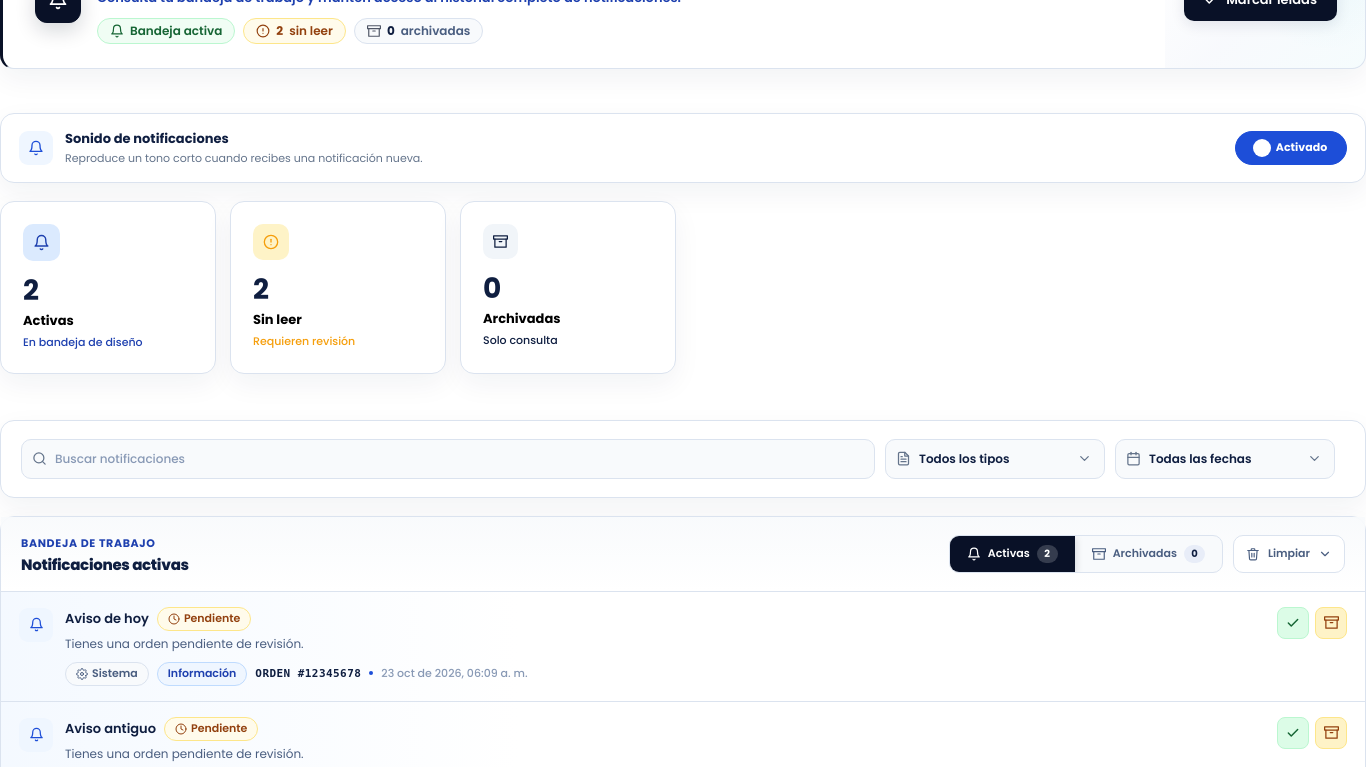
DesignerNotificationsModule › filters notifications by preset and custom date ranges
(page scrolled)
Select "Hoy" in the dropdown named "Filtrar por fecha" at (1236,459), box x1=1149 y1=453 x2=1324 y2=465
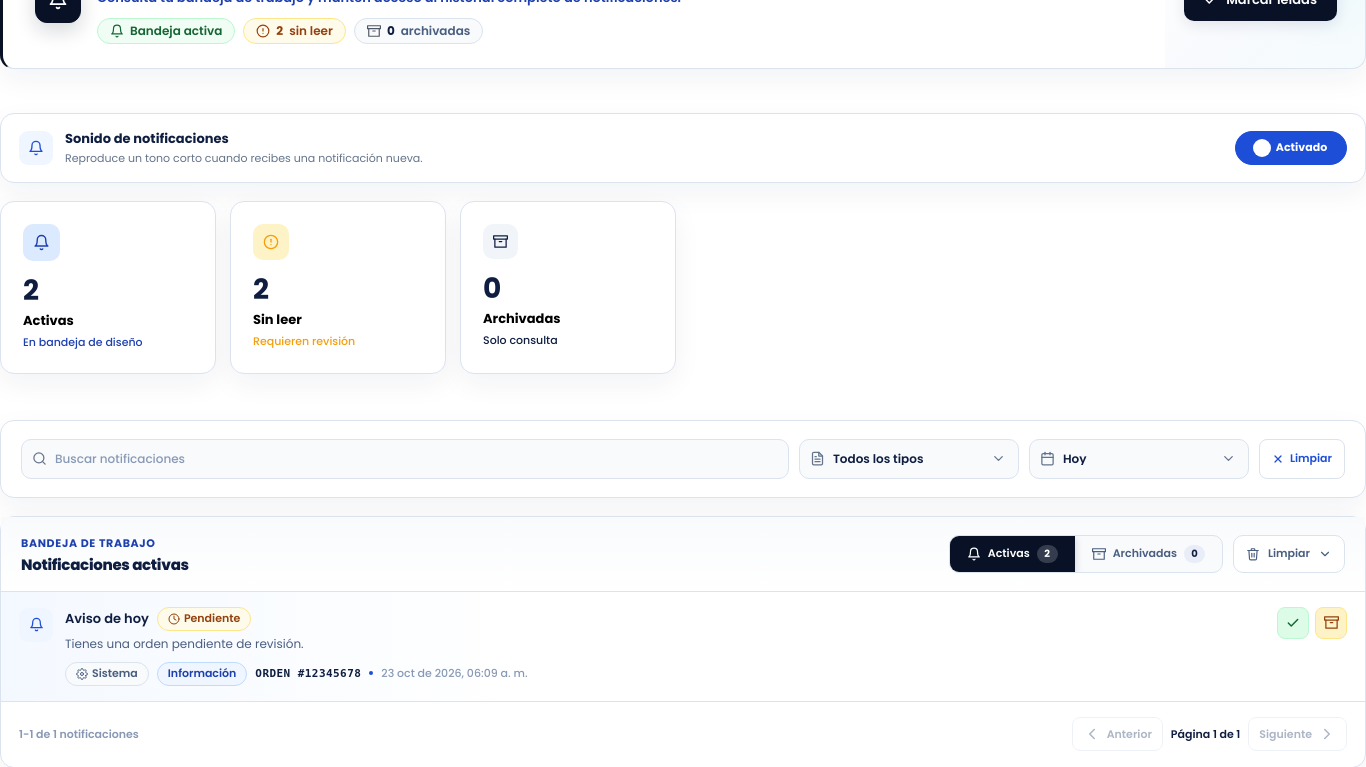
Expected: the text "Aviso de hoy" is shown, x1=65 y1=610 x2=149 y2=628
Expected: the text "Aviso antiguo" is gone
Select "Personalizado" in the dropdown named "Filtrar por fecha" at (1150,459), box x1=1063 y1=453 x2=1238 y2=465
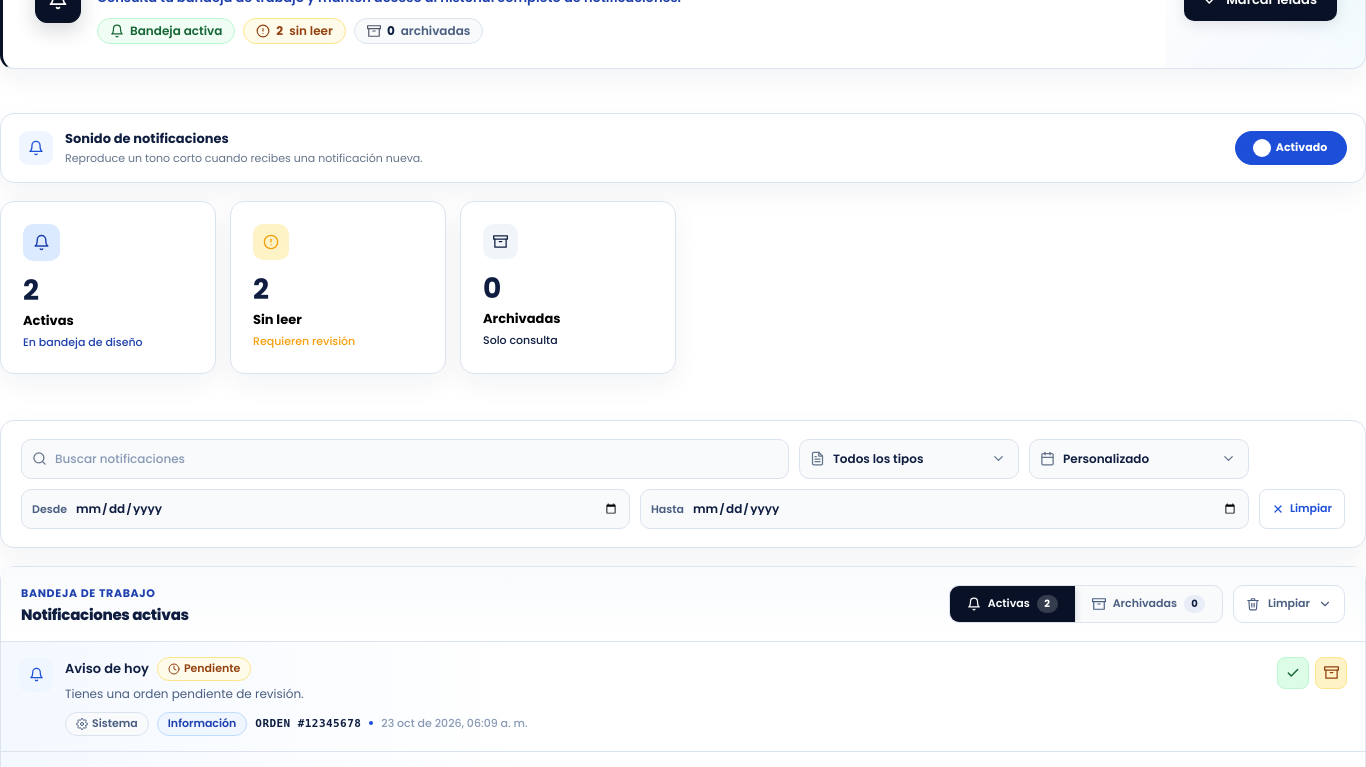
Type "2020-01-01" into the date field named "Fecha desde" at (347,509), box x1=75 y1=501 x2=619 y2=517
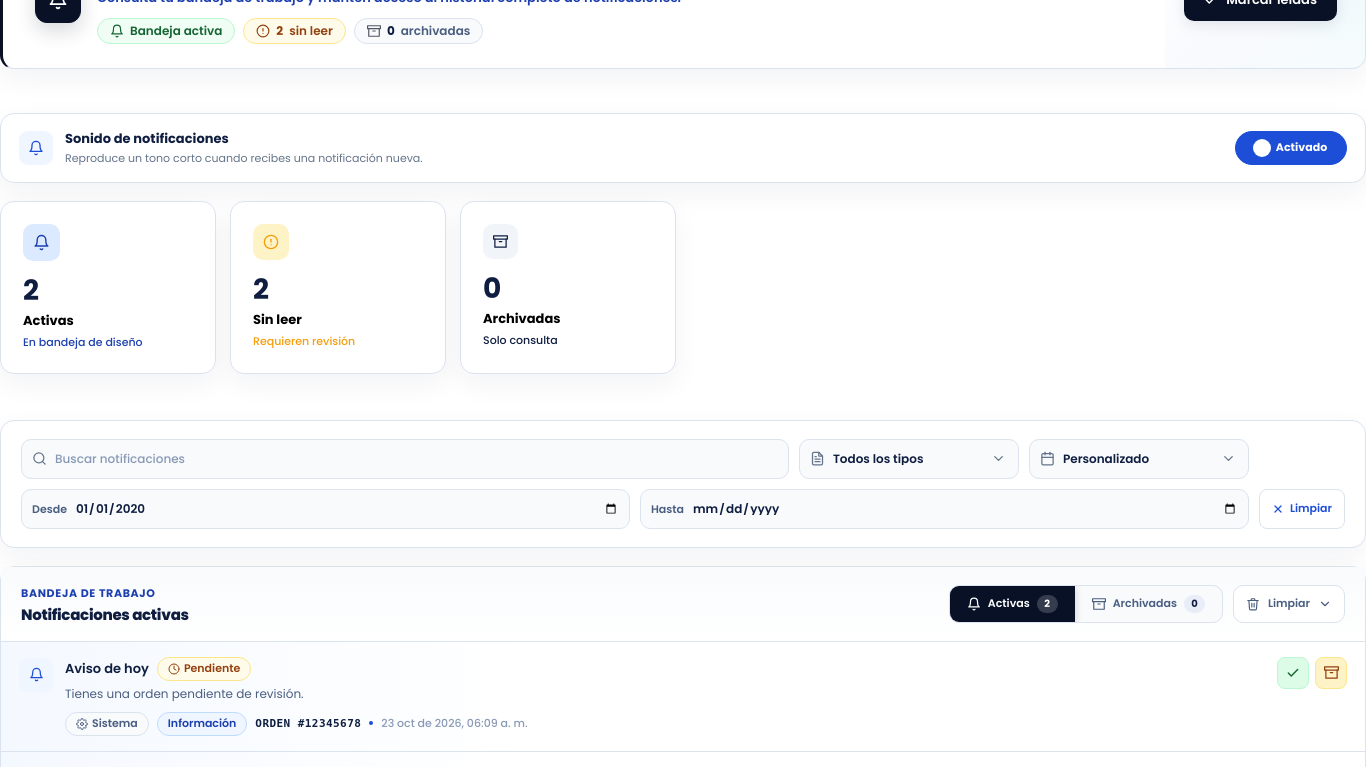
Type "2020-01-31" into the date field named "Fecha hasta" at (965,509), box x1=692 y1=501 x2=1238 y2=517
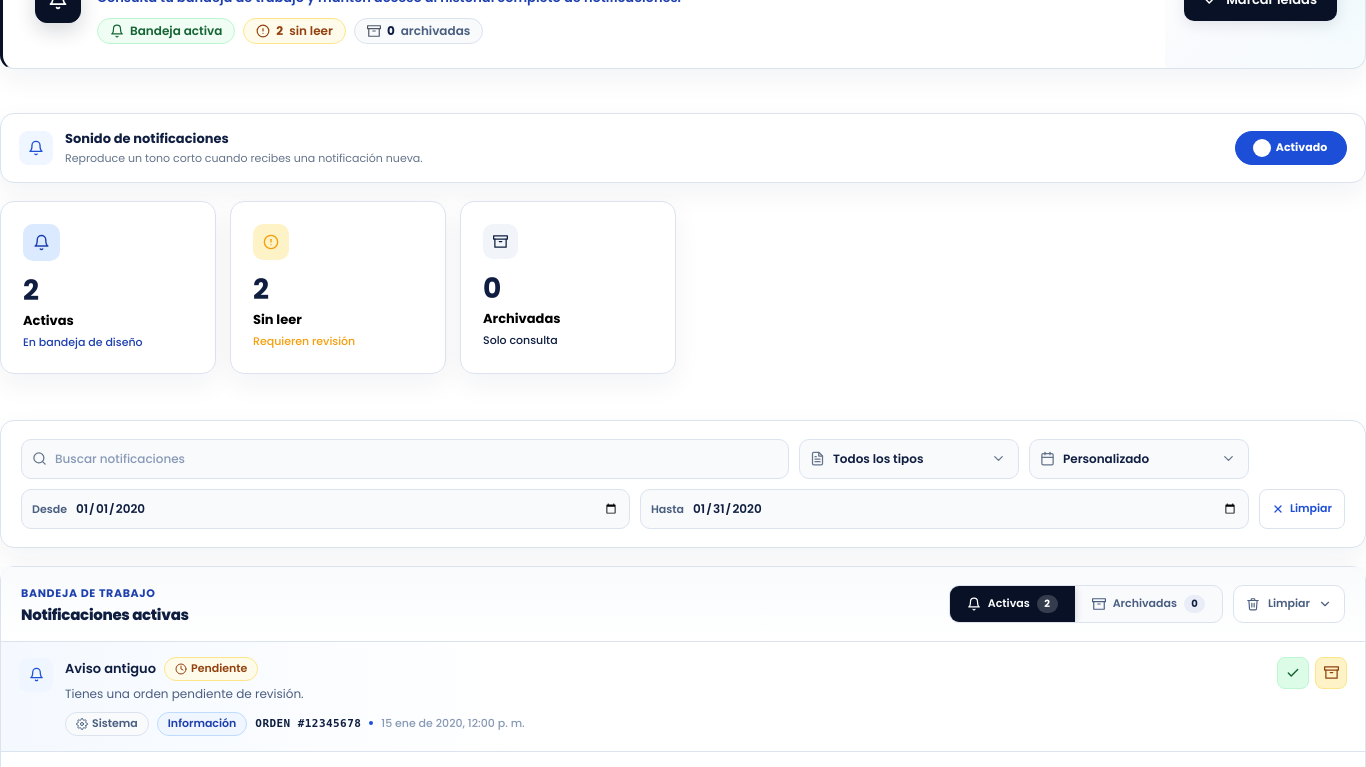
Expected: the text "Aviso antiguo" is shown, x1=65 y1=660 x2=156 y2=678
Expected: the text "Aviso de hoy" is gone
